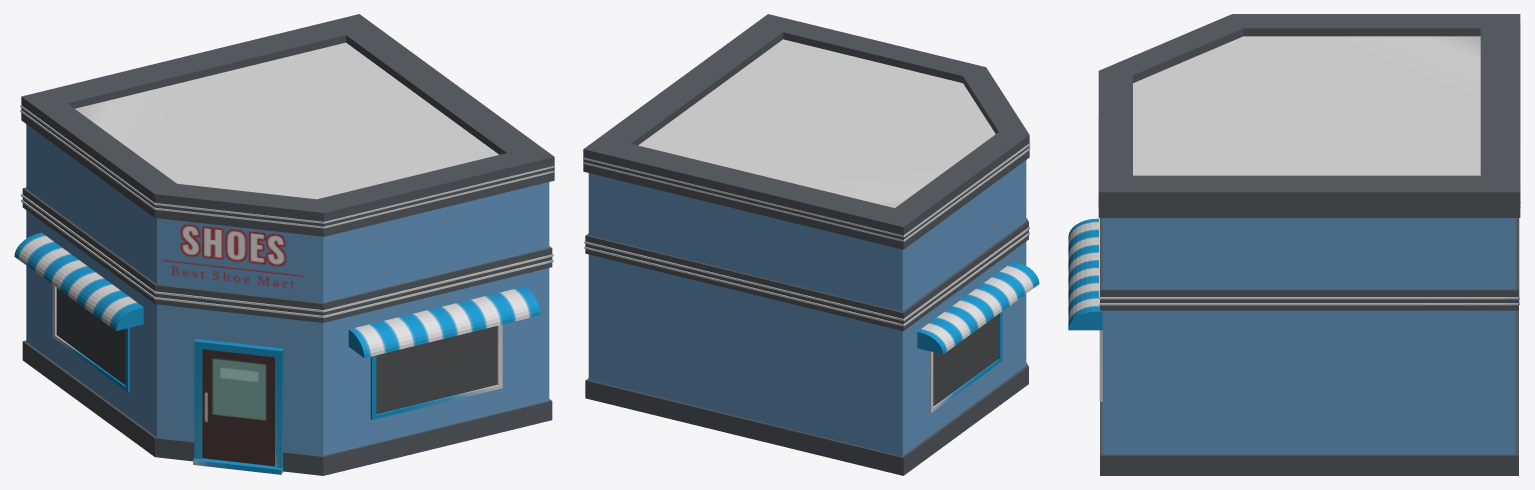
File: Building_Shoes Shop.fbx
3 views of the same model, side by side, from view 1: azimuth 30°, elevation 25°; view 2: azimuth 150°, elevation 25°; view 3: azimuth 270°, elevation 25° (orthographic). The views are drawn at different scales.
Visible parts, largest first — view 1: Building_Shoes Shop; view 2: Building_Shoes Shop; view 3: Building_Shoes Shop.
Part boxes in pixels (x1,y1,x2,y2): Building_Shoes Shop: (14,14,554,475); Building_Shoes Shop: (583,14,1039,475); Building_Shoes Shop: (1068,14,1520,475).
Bounding box in the file's own units: 1204 × 836 × 1204.
